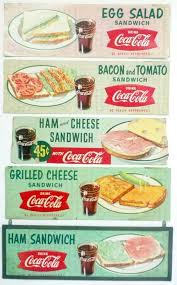coke: (76, 244, 105, 275)
